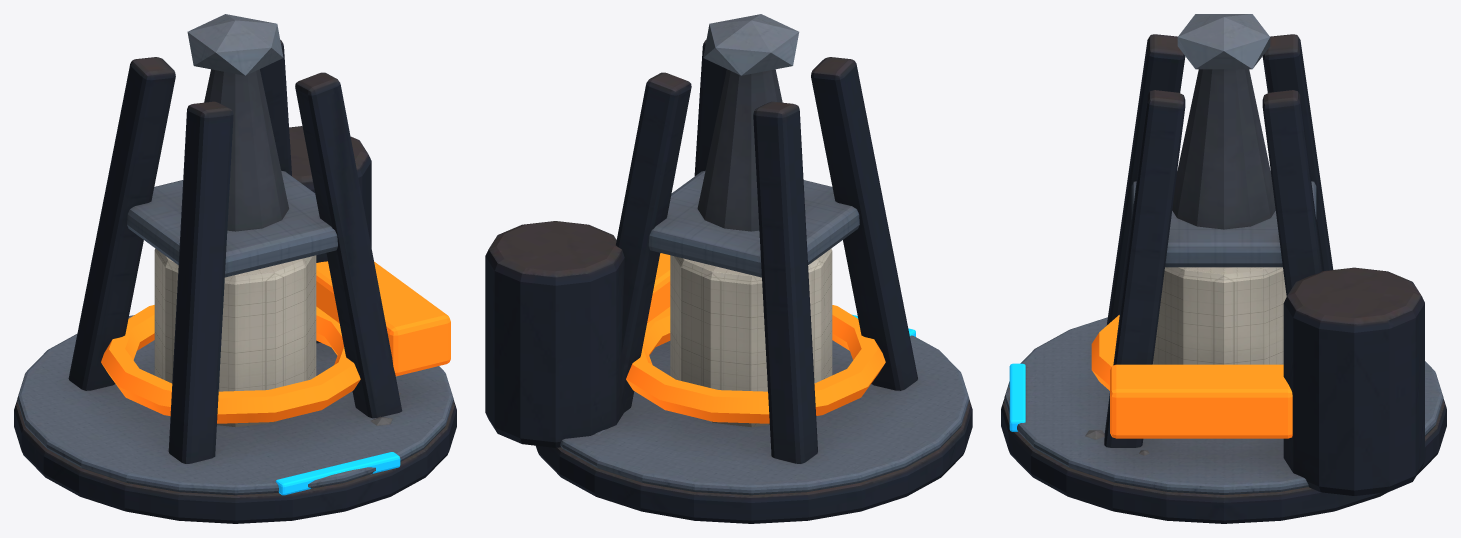
File: extractor.glb
The picture shows the model from 3 angles, left to right: view 1: azimuth 30°, elevation 25°; view 2: azimuth 150°, elevation 25°; view 3: azimuth 270°, elevation 25°; orthographic projection.
Visible parts, largest first — view 1: Android Graphite, Android Chassis, Android ResourceOre, Android Ceramic, Android FactionAccent; view 2: Android Graphite, Android Chassis, Android Ceramic, Android ResourceOre; view 3: Android Graphite, Android Chassis, Android ResourceOre, Android Ceramic, Android FactionAccent.
Boxes of the visible parts, x1,y1,x2,y2 form: Android Graphite: [14, 40, 456, 523]; Android Chassis: [17, 14, 453, 495]; Android ResourceOre: [101, 261, 450, 423]; Android Ceramic: [154, 248, 316, 427]; Android FactionAccent: [275, 452, 400, 495]; Android Graphite: [485, 39, 972, 523]; Android Chassis: [560, 14, 969, 495]; Android Ceramic: [670, 248, 832, 427]; Android ResourceOre: [626, 253, 885, 423]; Android Graphite: [1001, 34, 1446, 523]; Android Chassis: [1004, 14, 1443, 494]; Android ResourceOre: [1091, 315, 1292, 438]; Android Ceramic: [1152, 267, 1286, 364]; Android FactionAccent: [1009, 363, 1025, 431].
Bounding box in the file's own units: 0.82 × 0.843 × 0.82.
Materials: 6 (4 with a texture image).
